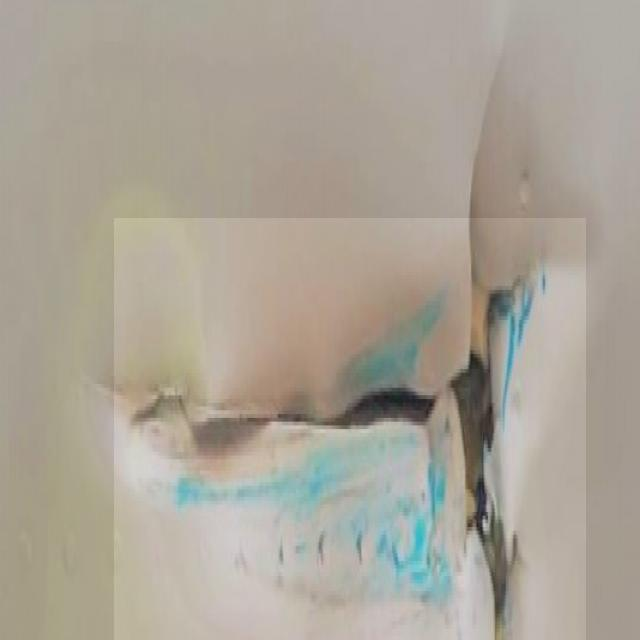crack: (115, 219, 587, 640)
